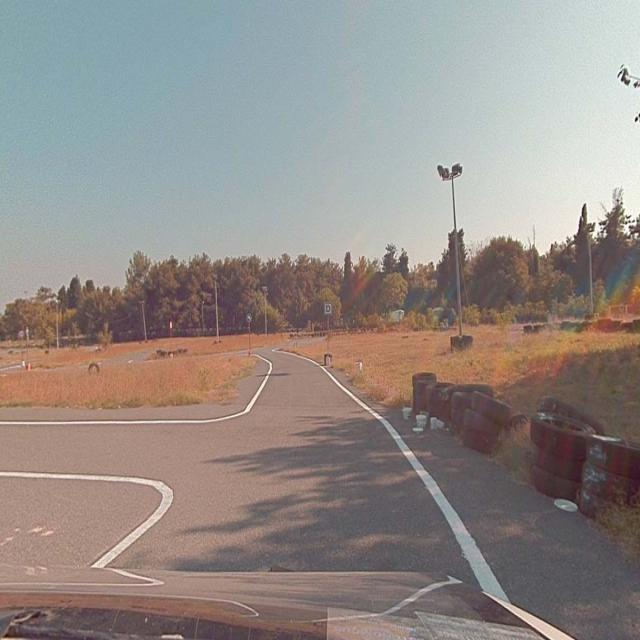durak: (325, 303, 332, 314)
